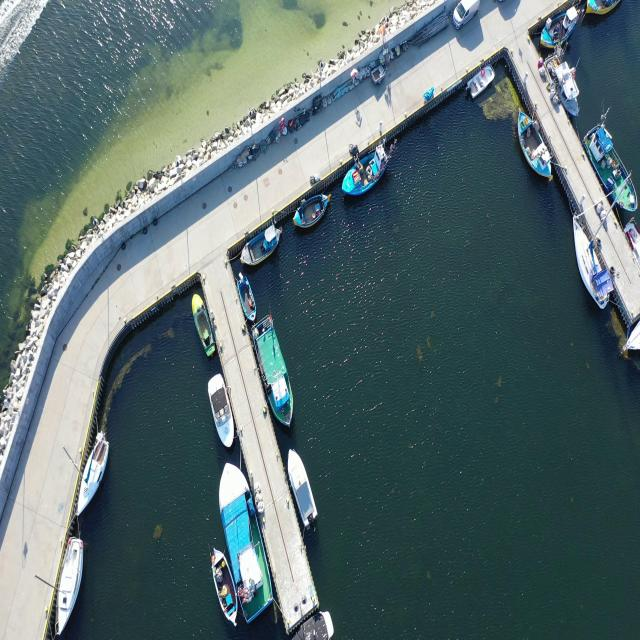boat: (217, 464, 274, 625), (581, 120, 637, 218), (250, 315, 296, 430), (340, 142, 390, 198), (542, 52, 582, 118), (287, 449, 318, 534), (518, 111, 554, 182), (210, 549, 240, 626), (536, 4, 578, 51), (208, 374, 234, 446), (240, 223, 281, 268), (290, 191, 331, 230), (191, 294, 215, 358), (288, 610, 336, 640), (466, 64, 495, 103), (236, 276, 256, 324), (581, 0, 623, 19)
sailboat: (571, 214, 612, 310), (53, 538, 85, 638), (76, 436, 110, 519)
